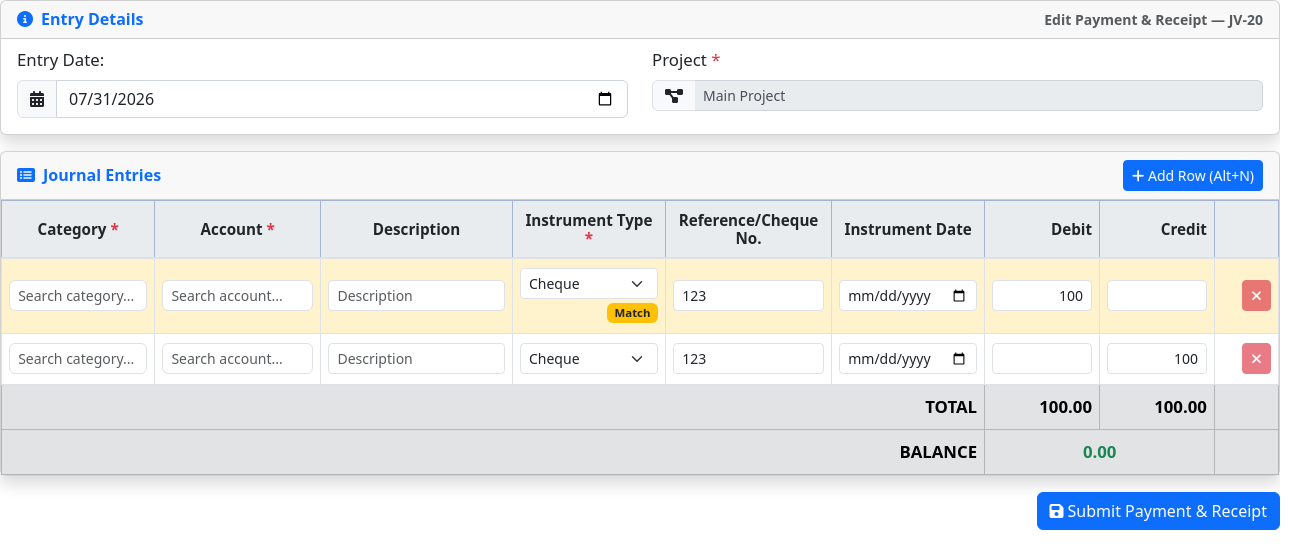
Scenario: PaymentReceiptForm › clears a warning when its direction or reference changes
Expected: the text "Match" is shown, [607, 303, 658, 323]
Clear the number field named "Entry 1 debit" at (1042, 296), box [992, 280, 1092, 311]
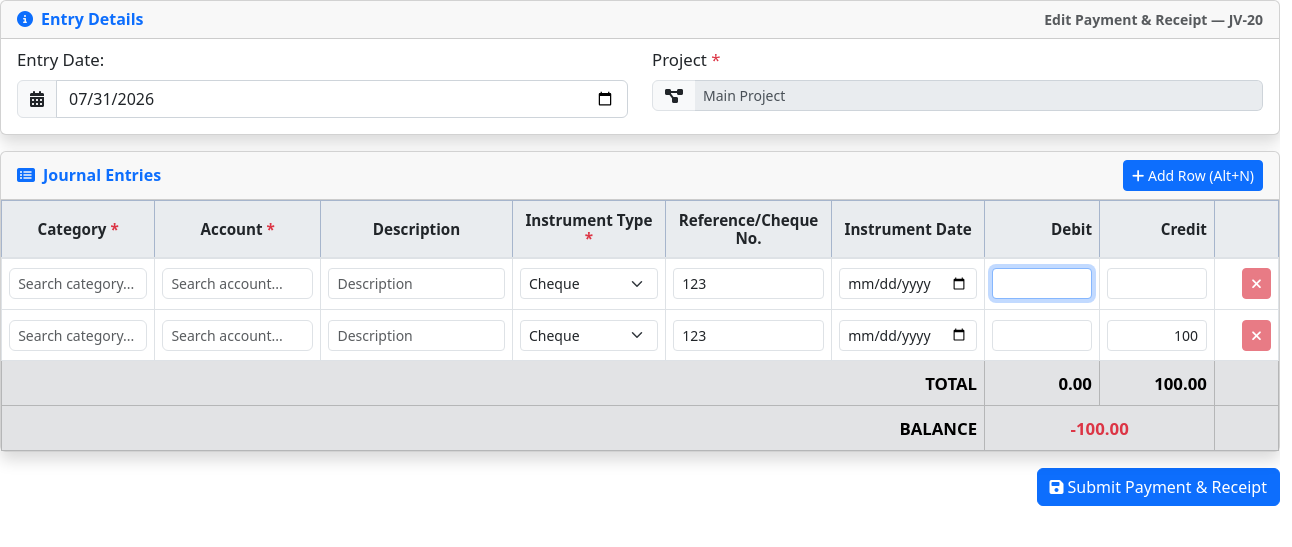
Result: the text "Match" is gone
